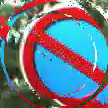No waiting: (17, 14, 106, 105)
